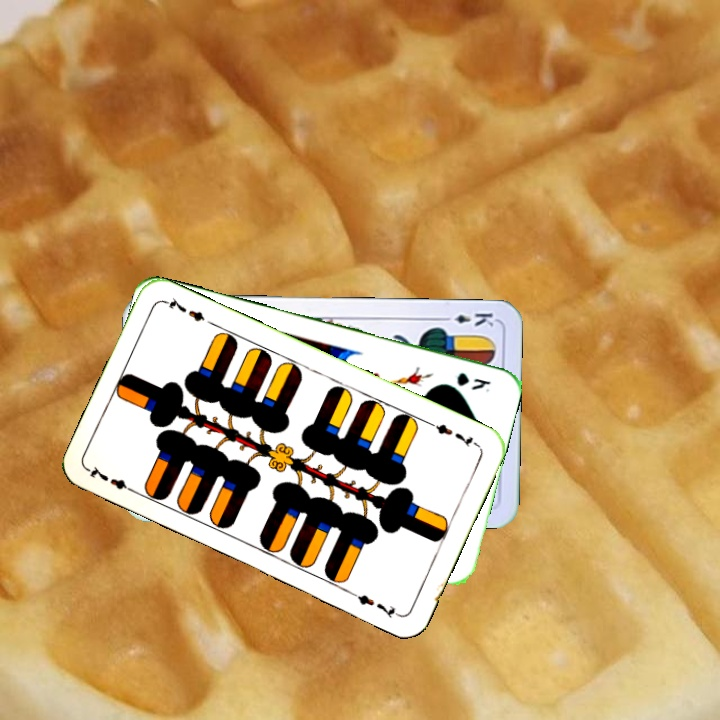E7: (85, 462, 140, 497), (425, 418, 481, 450)
EK: (437, 309, 496, 331)
GK: (452, 368, 493, 395)
